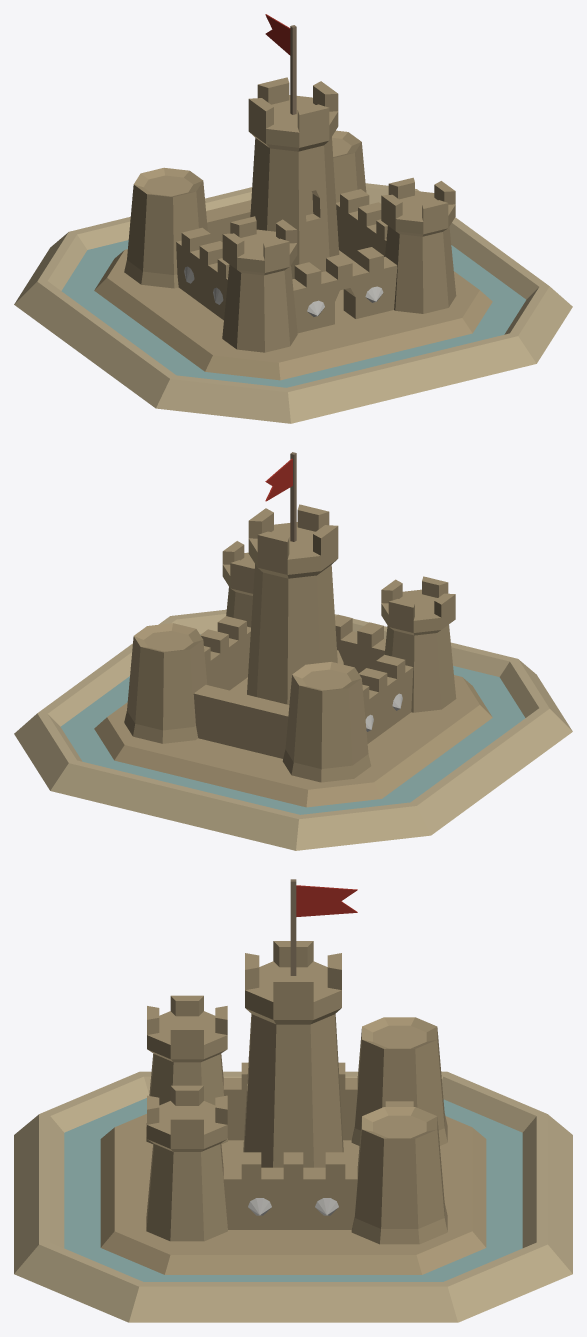
Rendered from sandcastle-ddc562.glb.
The picture shows the model from 3 angles, top to bottom: view 1: azimuth 30°, elevation 25°; view 2: azimuth 150°, elevation 25°; view 3: azimuth 270°, elevation 25°; orthographic projection. The views are drawn at different scales.
Visible parts, largest first — view 1: castle, flag-stick, pennant-cloth; view 2: castle, pennant-cloth, flag-stick; view 3: castle, pennant-cloth, flag-stick.
Boxes of the visible parts, <box> form: castle: <box>14,77,572,423</box>; flag-stick: <box>290,25,296,114</box>; pennant-cloth: <box>265,14,290,55</box>; castle: <box>14,504,572,850</box>; pennant-cloth: <box>265,458,292,501</box>; flag-stick: <box>290,452,296,541</box>; castle: <box>14,941,572,1322</box>; pennant-cloth: <box>296,885,357,916</box>; flag-stick: <box>290,879,296,975</box>.
Size of the model in its own units: 1 by 0.64 by 1.
